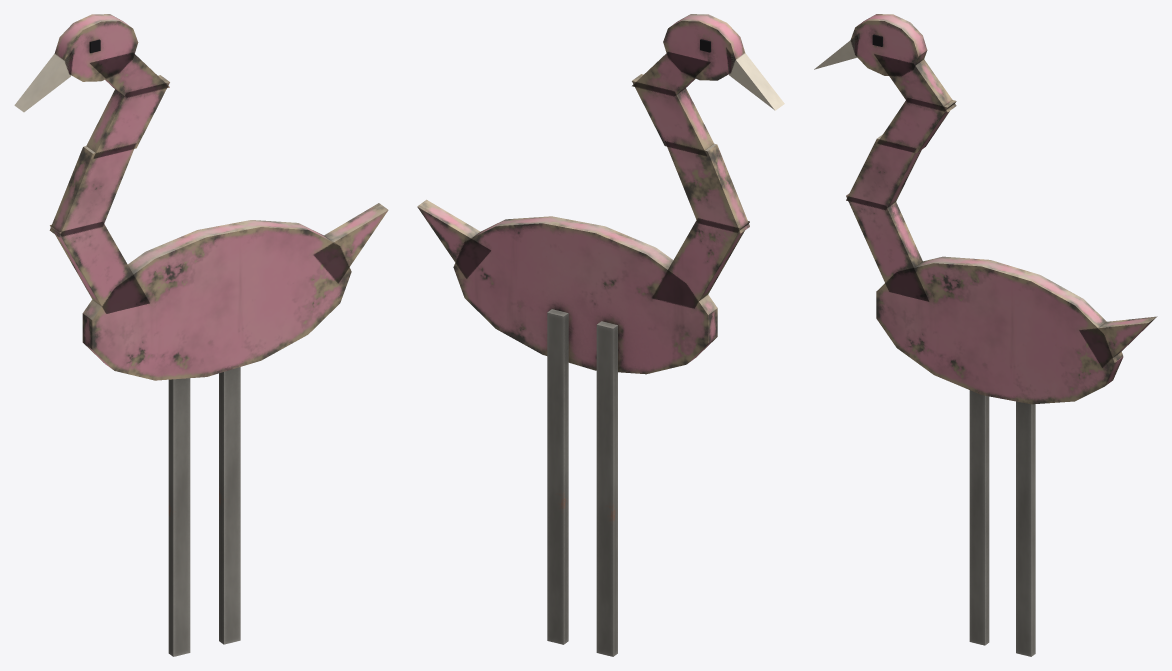
Rendered from lawn_flamingo.fbx.
The picture shows the model from 3 angles, left to right: view 1: azimuth 30°, elevation 25°; view 2: azimuth 150°, elevation 25°; view 3: azimuth 330°, elevation 25°; orthographic projection. The views are drawn at different scales.
Visible parts, largest first — view 1: Body; view 2: Body; view 3: Body.
Boxes of the visible parts, x1,y1,x2,y2 form: Body: (14, 14, 388, 656); Body: (417, 14, 784, 656); Body: (814, 14, 1157, 656).
Bounding box in the file's own units: 2.17 × 3.77 × 0.165.
Materials: 1 (1 with a texture image).
